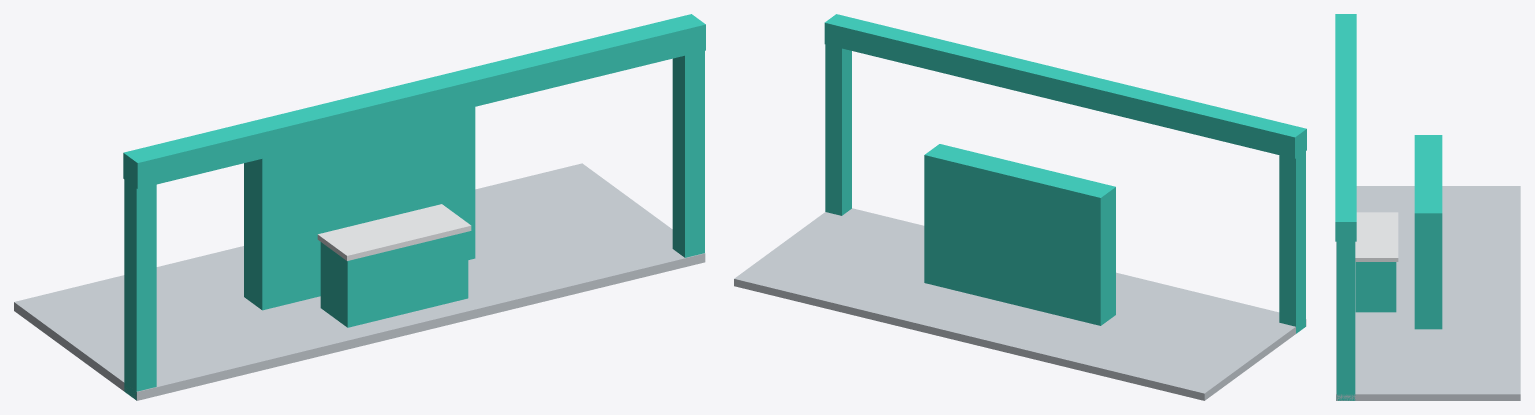
The picture shows the model from 3 angles, left to right: view 1: azimuth 30°, elevation 25°; view 2: azimuth 150°, elevation 25°; view 3: azimuth 270°, elevation 25°; orthographic projection. The views are drawn at different scales.
Visible parts, largest first — view 1: Exhibition Booth Concept; view 2: Exhibition Booth Concept; view 3: Exhibition Booth Concept.
Boxes of the visible parts, <box> form: Exhibition Booth Concept: <box>14,14,705,400</box>; Exhibition Booth Concept: <box>734,14,1306,400</box>; Exhibition Booth Concept: <box>1335,14,1520,400</box>.
Size of the model in its own units: 8 by 3.2 by 3.01.
